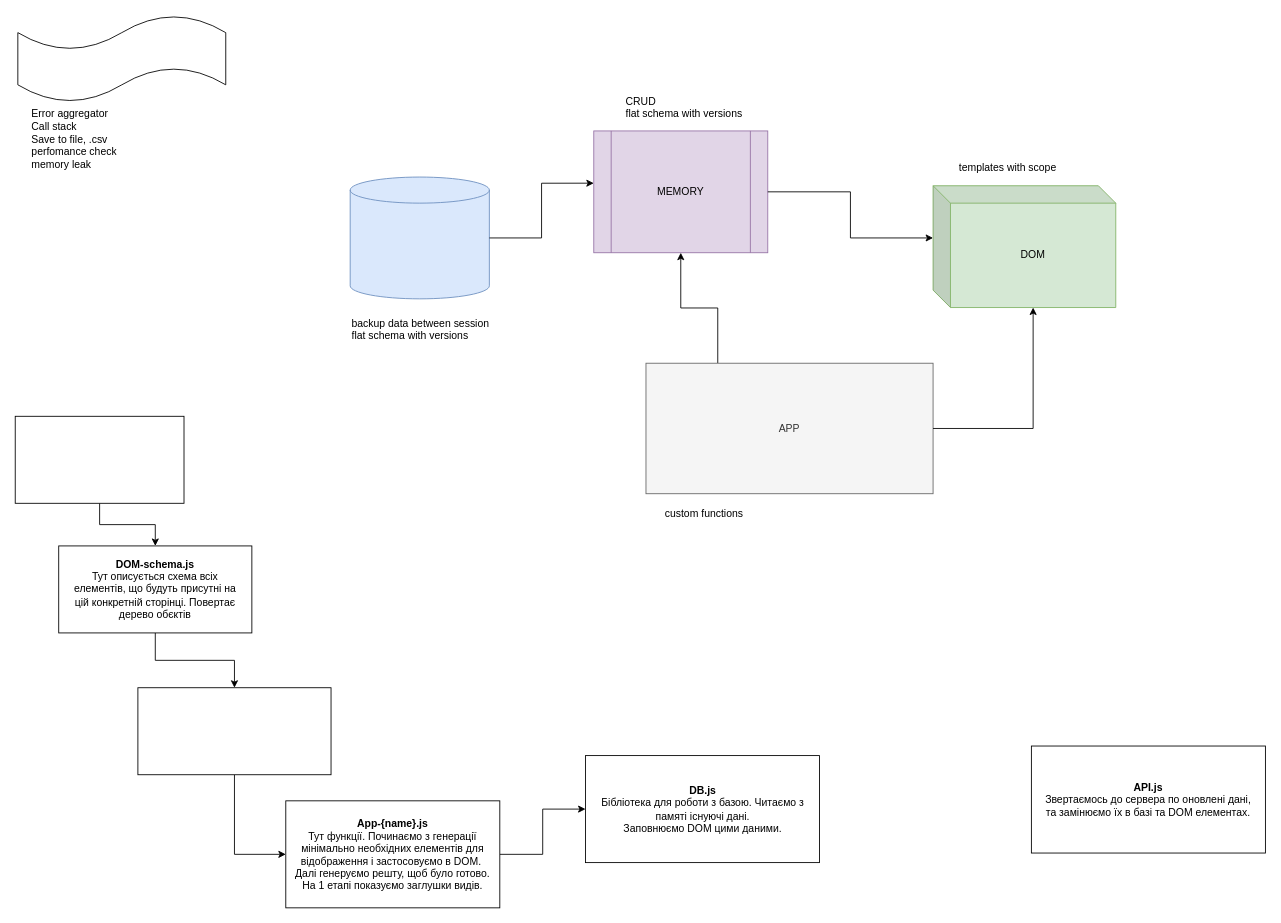
The diagram is 1281 pixels wide and 923 high, and some of its shapes have lost their labels. Here are the shapes that lost their labels. From the top down, the centre of each, then its label:
[121,58]: Debugger
[419,237]: indexedDB
[99,459]: Loader.js Завантажувач, який визначає порядок завантаження скриптів і стилів.
[234,731]: World.js Обробник схеми, який створює всі елементи і завантажує їх у память.
